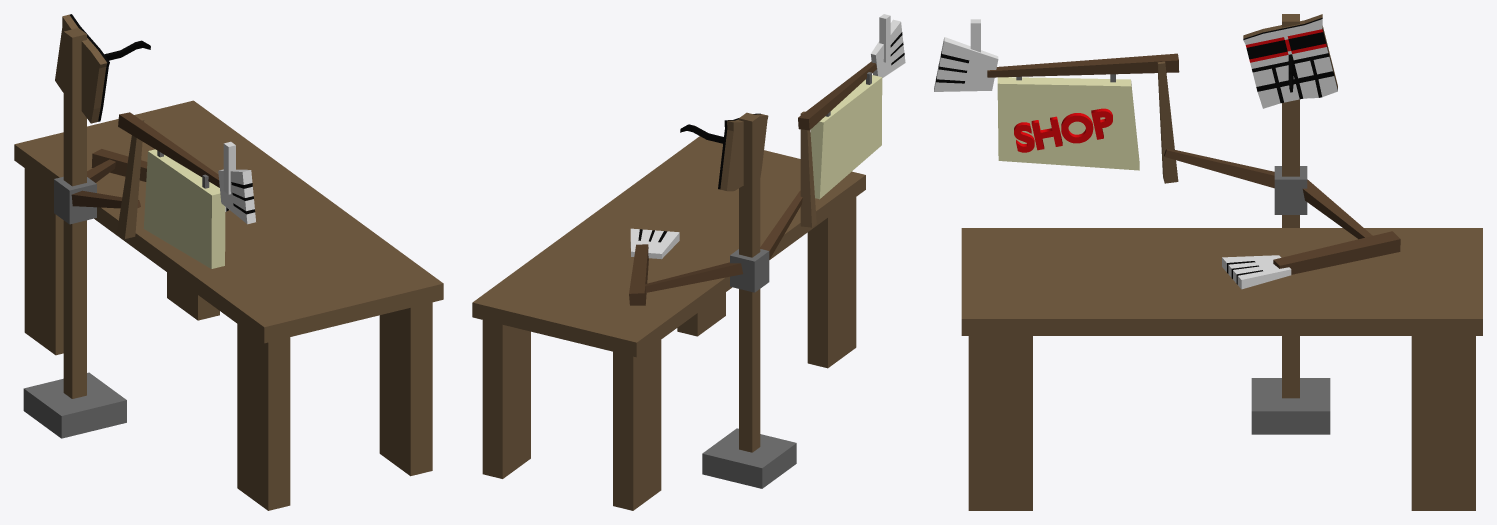
The model's file is Tienda juego.fbx.
3 views of the same model, side by side, from view 1: azimuth 30°, elevation 25°; view 2: azimuth 150°, elevation 25°; view 3: azimuth 270°, elevation 25° (orthographic). The views are drawn at different scales.
Visible parts, largest first — view 1: Cube.002, Cube, Cube.009, Cube.001, Cube.008, Cube.007, Cube.012, Cube.006, Cube.004, Cube.013; view 2: Cube.002, Cube, Cube.009, Cube.001, Cube.007, Cube.008, Cube.003, Cube.012, Cube.005, Cube.004, Cube.006; view 3: Cube.002, Cube.009, Cube, Cube.001, Cube.008, Cube.012, Cube.004, Shop, Cube.005, Cube.006, Cube.007, Cube.003.
Part boxes in pixels (x1,y1,x2,y2): Cube.002: (14, 100, 443, 510); Cube: (23, 28, 126, 438); Cube.009: (143, 149, 225, 268); Cube.001: (55, 14, 150, 123); Cube.008: (118, 112, 219, 187); Cube.007: (117, 117, 144, 238); Cube.012: (218, 169, 255, 224); Cube.006: (71, 190, 140, 208); Cube.004: (91, 149, 147, 181); Cube.013: (223, 141, 235, 194); Cube.002: (472, 136, 865, 510); Cube: (702, 112, 796, 488); Cube.009: (810, 75, 882, 199); Cube.001: (680, 113, 768, 191); Cube.007: (800, 111, 816, 227); Cube.008: (798, 61, 876, 130); Cube.003: (645, 262, 743, 292); Cube.012: (871, 19, 905, 77); Cube.005: (630, 228, 679, 259); Cube.004: (629, 244, 648, 305); Cube.006: (760, 190, 802, 259); Cube.002: (961, 228, 1482, 510); Cube.009: (997, 77, 1139, 170); Cube: (1251, 14, 1330, 434); Cube.001: (1243, 14, 1337, 108); Cube.008: (987, 53, 1179, 77); Cube.012: (934, 37, 998, 91); Cube.004: (1273, 231, 1400, 274); Shop: (1014, 108, 1112, 152); Cube.005: (1222, 255, 1291, 289); Cube.006: (1164, 149, 1274, 188); Cube.007: (1157, 61, 1178, 183); Cube.003: (1302, 179, 1372, 239).
Bounding box in the file's own units: 743 × 1136 × 1393.
